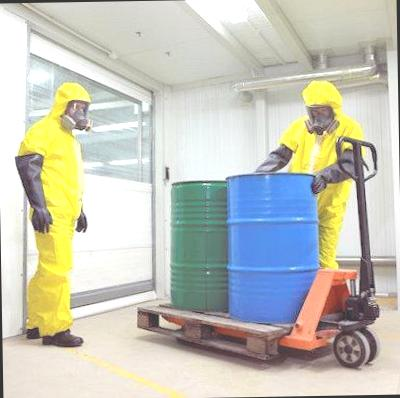person: (11, 74, 102, 353)
